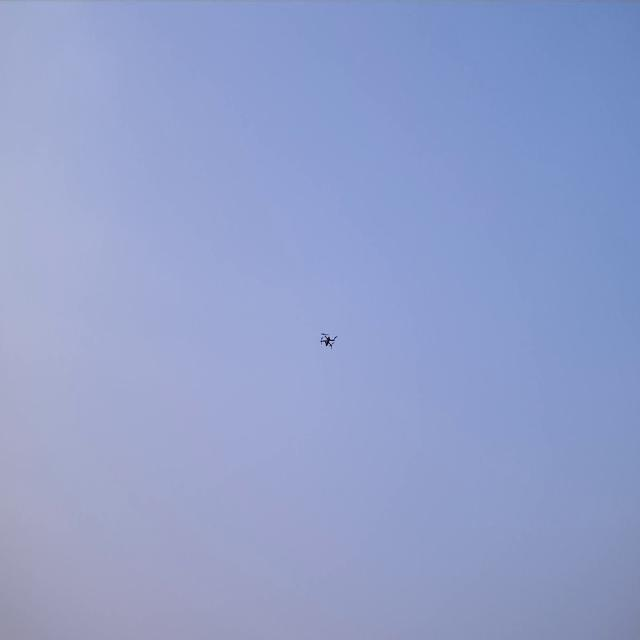UAV: (318, 330, 338, 352)
